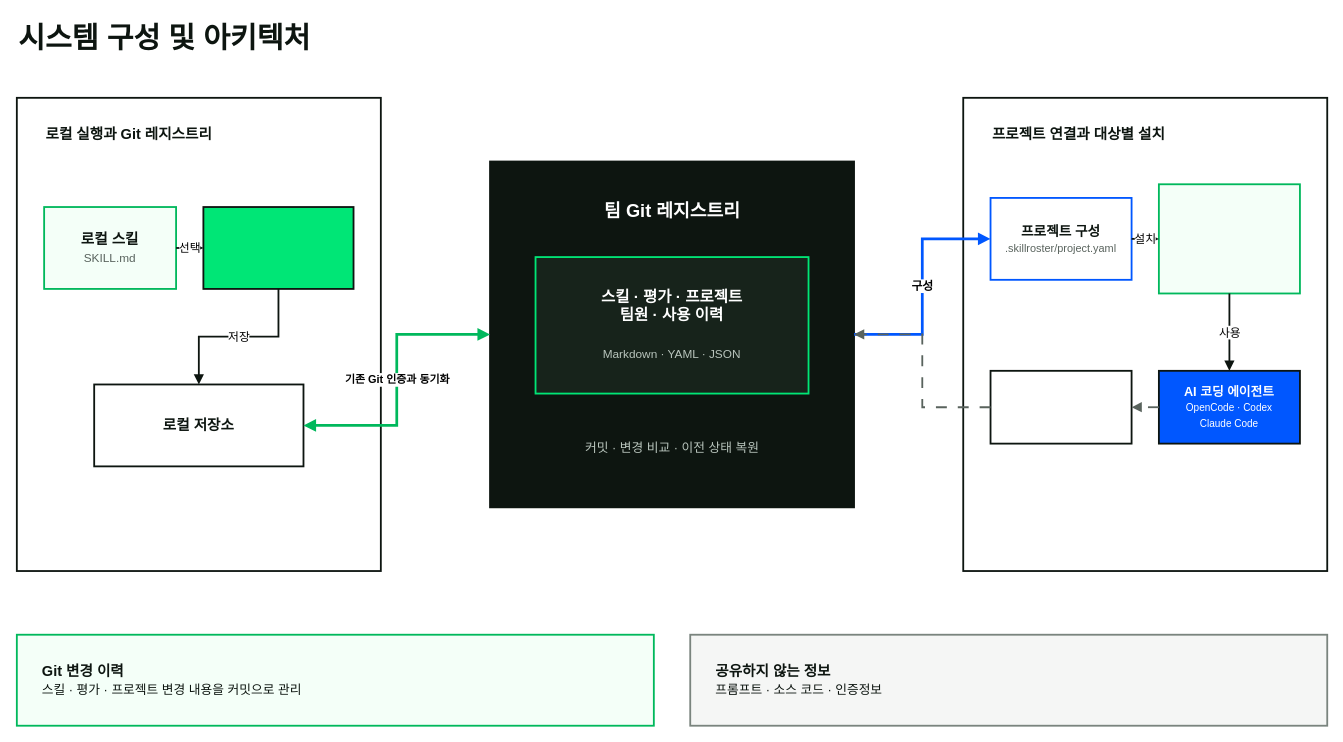
Some shapes in this 1343 by 742 pixel diagram are drawn without their labels. The shapes that lost their labels are listed below. From the top down, each one's centre as x and y in pixels, then its label:
point (278, 247): 대시보드 · CLI
point (1229, 238): 대상별 설치 .opencode/skills .agents/skills .claude/skills
point (1060, 406): OpenCode 사용 이력 연동
